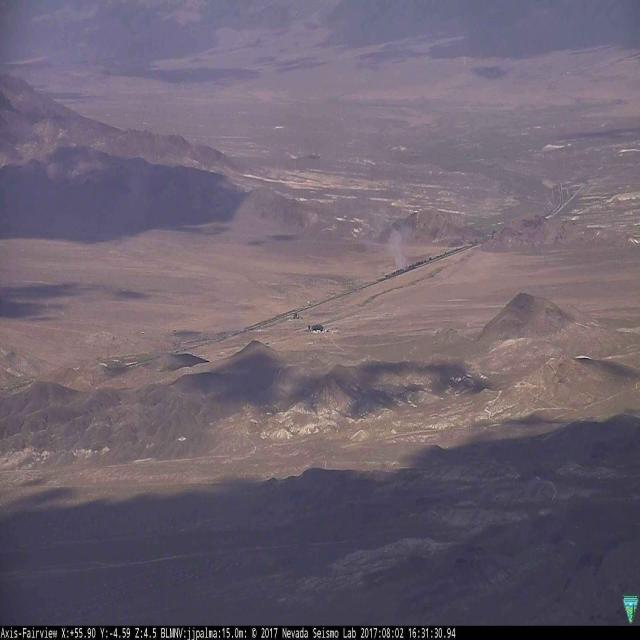smoke: (359, 184, 417, 271)
